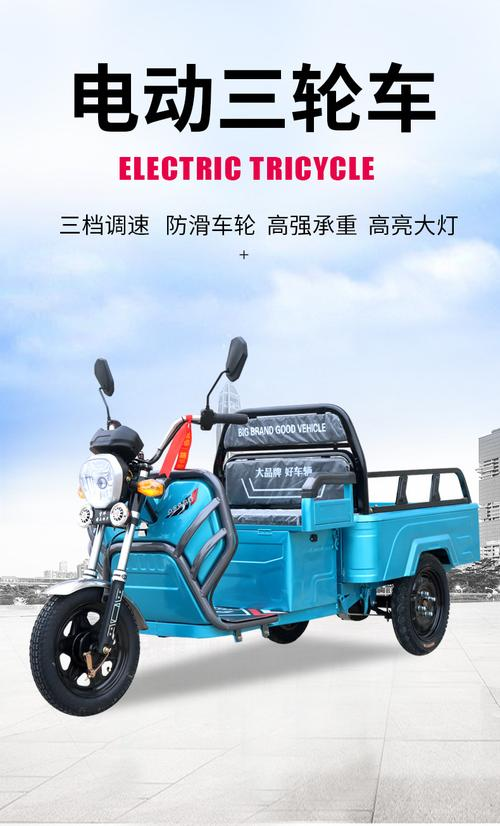empty: (22, 289, 474, 717)
